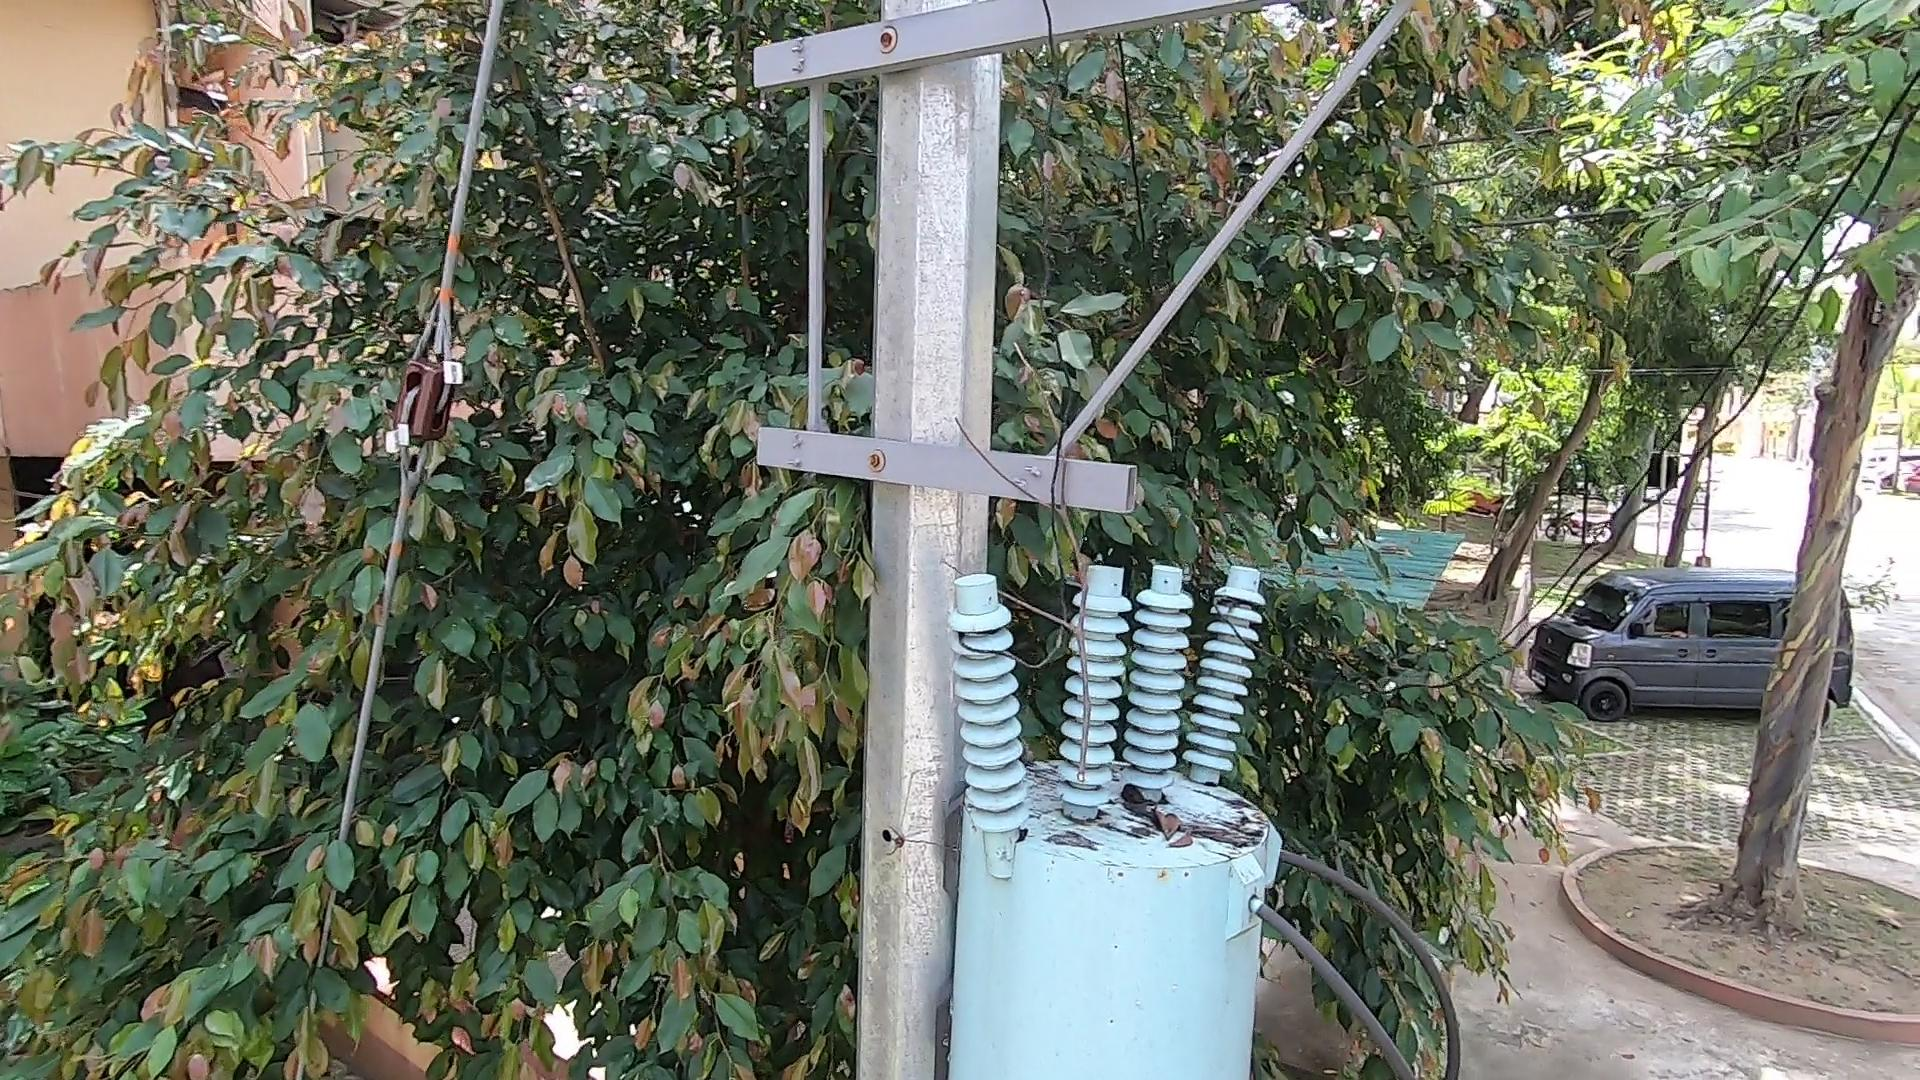leaf: (1122, 785, 1204, 851)
tree branch: (951, 332, 1133, 791)
